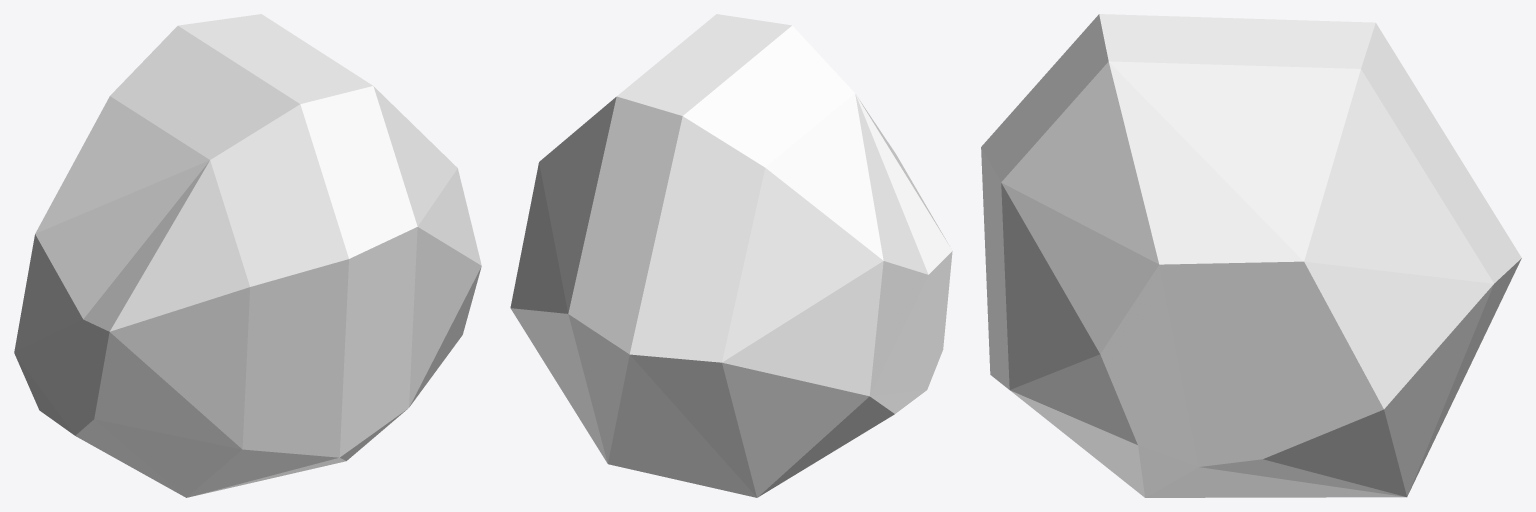
Rendered from DracoFireball.dae.
3 renders of one model, left to right at view 1: azimuth 30°, elevation 25°; view 2: azimuth 150°, elevation 25°; view 3: azimuth 270°, elevation 25°, orthographic. The views are drawn at different scales.
Visible parts, largest first — view 1: S_DracoFireBall; view 2: S_DracoFireBall; view 3: S_DracoFireBall.
Boxes of the visible parts, x1=… form: S_DracoFireBall: x1=14, y1=14, x2=481, y2=497; S_DracoFireBall: x1=510, y1=14, x2=952, y2=497; S_DracoFireBall: x1=981, y1=14, x2=1521, y2=497.
Bounding box in the file's own units: 0.1106 × 0.1119 × 0.1218.
1 material, 1 textured.
